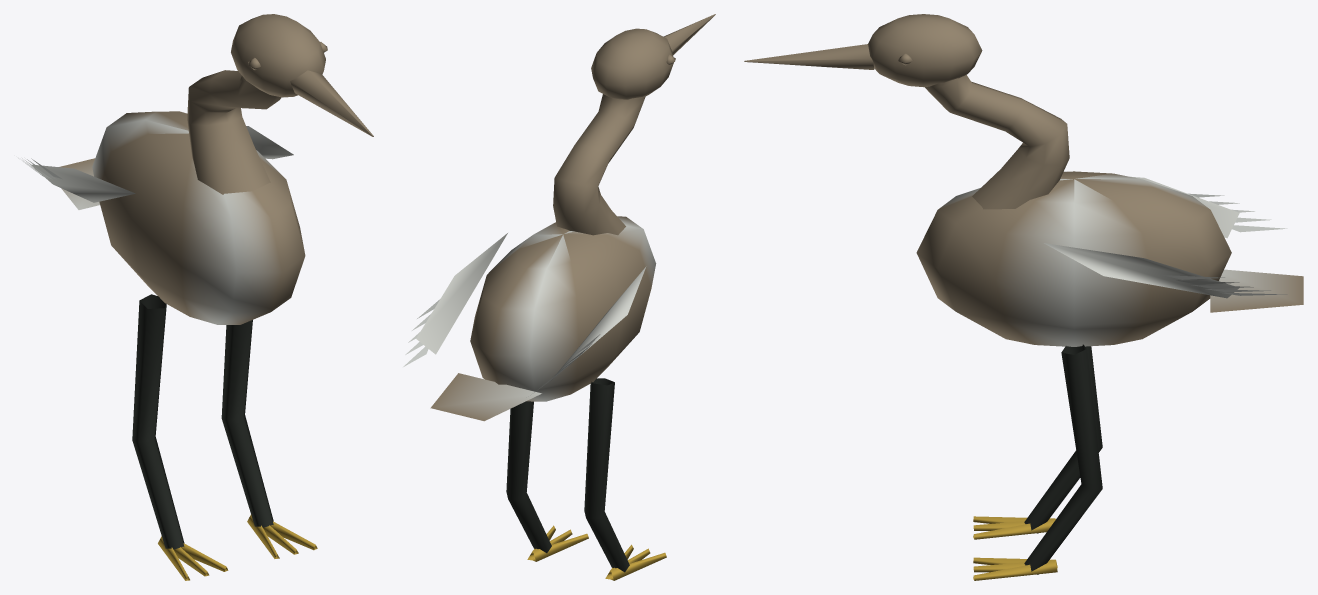
File: pond-heron-0.glb
3 views of the same model, side by side, from view 1: azimuth 30°, elevation 25°; view 2: azimuth 150°, elevation 25°; view 3: azimuth 270°, elevation 25° (orthographic). The views are drawn at different scales.
Parts seen in each view (by area): view 1: pond-heron; view 2: pond-heron; view 3: pond-heron.
Boxes of the visible parts, <box> form: pond-heron: <box>18,14,373,580</box>; pond-heron: <box>403,14,715,580</box>; pond-heron: <box>744,14,1303,580</box>.
Bounding box in the file's own units: 0.1928 × 0.5806 × 0.5501.
